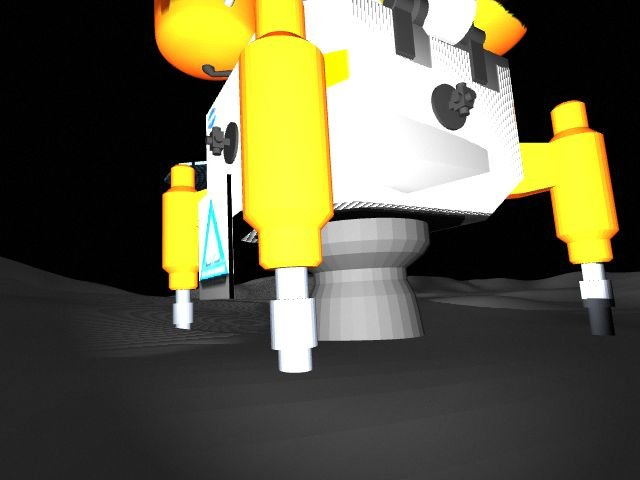basemarker: (200, 199, 229, 279)
